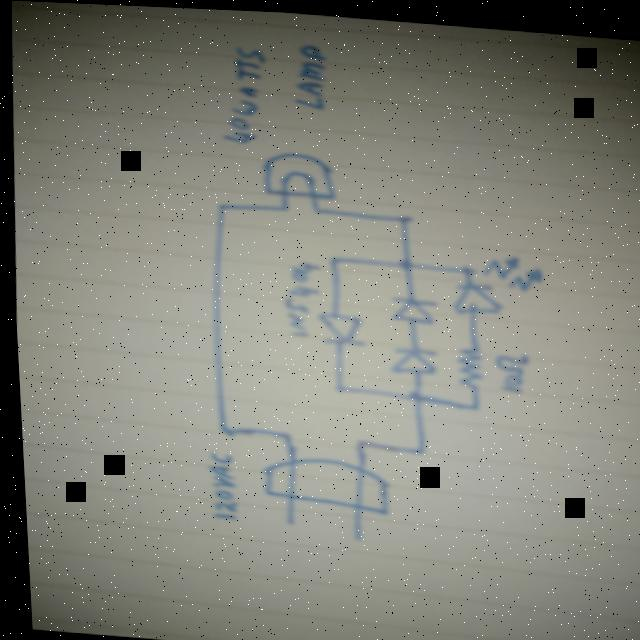diode: (443, 243, 543, 317), (310, 303, 366, 347), (383, 337, 437, 373), (384, 289, 437, 322)
junction: (266, 419, 294, 443), (324, 372, 348, 392), (387, 207, 413, 225), (399, 383, 422, 403), (391, 251, 414, 270), (342, 429, 366, 447), (320, 248, 341, 266), (210, 420, 231, 437), (403, 437, 425, 453), (274, 196, 291, 213), (461, 395, 480, 410), (209, 196, 226, 212), (306, 199, 322, 214)
resistor: (448, 337, 484, 390)
terminal: (343, 523, 363, 545), (275, 508, 295, 528)
text: (211, 37, 275, 148), (284, 35, 339, 116), (272, 254, 320, 341), (197, 444, 237, 520), (484, 340, 530, 394)
